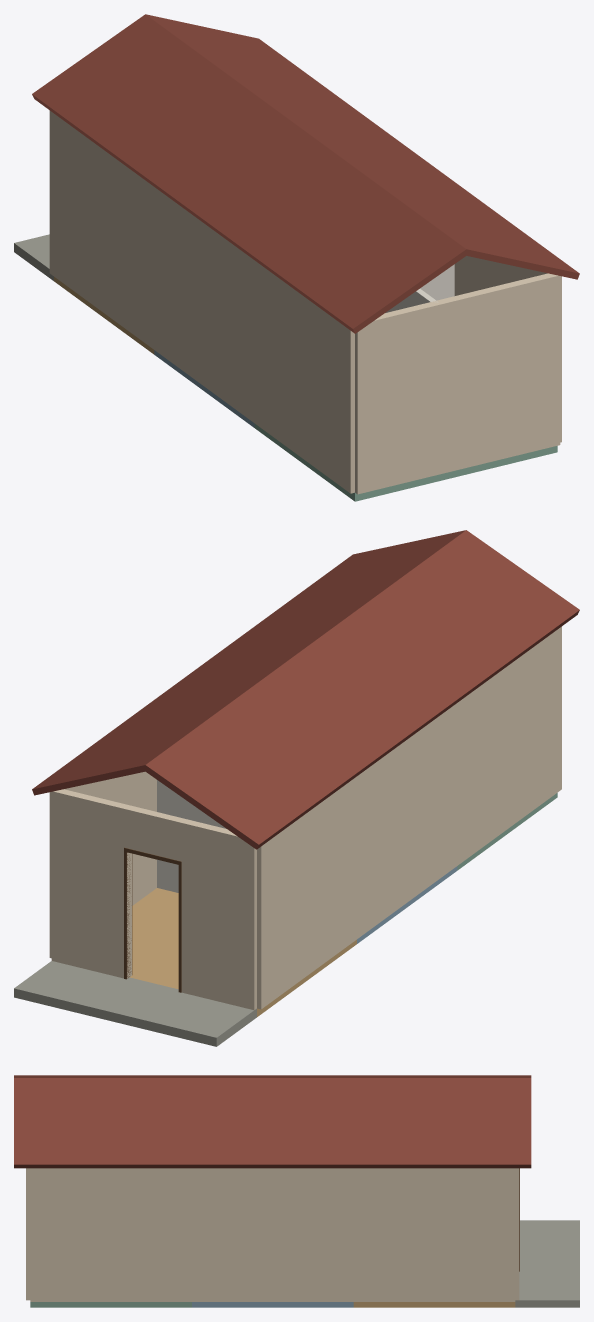
File: rumah-3-petak-v01.fbx
3 views of the same model, one above another, from view 1: azimuth 30°, elevation 25°; view 2: azimuth 150°, elevation 25°; view 3: azimuth 270°, elevation 25° (orthographic). The views are drawn at different scales.
Visible parts, largest first — view 1: Model::19_Roof_Right_Removable, Model::09_Exterior_Right, Model::07_Exterior_Rear, Model::18_Roof_Left_Removable, Model::08_Exterior_Left, Model::03_Floor_Kitchen, Model::05_Terrace, Model::11_Partition_Bedroom_Kitchen; view 2: Model::19_Roof_Right_Removable, Model::09_Exterior_Right, Model::06_Exterior_Front, Model::18_Roof_Left_Removable, Model::05_Terrace, Model::01_Floor_Living, Model::08_Exterior_Left, Model::10_Partition_Living_Bedroom, Model::14_Frame_FrontDoor; view 3: Model::08_Exterior_Left, Model::18_Roof_Left_Removable, Model::05_Terrace, Model::19_Roof_Right_Removable, Model::01_Floor_Living, Model::02_Floor_Bedroom, Model::03_Floor_Kitchen, Model::06_Exterior_Front, Model::07_Exterior_Rear.
Part boxes in pixels (<box>): Model::19_Roof_Right_Removable: <box>32,14,467,333</box>; Model::09_Exterior_Right: <box>49,110,354,493</box>; Model::07_Exterior_Rear: <box>355,273,560,494</box>; Model::18_Roof_Left_Removable: <box>146,14,579,279</box>; Model::08_Exterior_Left: <box>454,256,561,442</box>; Model::03_Floor_Kitchen: <box>254,424,557,501</box>; Model::05_Terrace: <box>14,234,53,280</box>; Model::11_Partition_Bedroom_Kitchen: <box>420,264,454,300</box>; Model::19_Roof_Right_Removable: <box>143,530,579,849</box>; Model::09_Exterior_Right: <box>257,626,561,1009</box>; Model::06_Exterior_Front: <box>51,789,256,1010</box>; Model::18_Roof_Left_Removable: <box>32,530,465,795</box>; Model::05_Terrace: <box>14,961,256,1046</box>; Model::01_Floor_Living: <box>129,888,356,1016</box>; Model::08_Exterior_Left: <box>49,771,156,958</box>; Model::10_Partition_Living_Bedroom: <box>157,780,226,892</box>; Model::14_Frame_FrontDoor: <box>124,847,181,992</box>; Model::08_Exterior_Left: <box>30,1168,515,1301</box>; Model::18_Roof_Left_Removable: <box>14,1078,531,1168</box>; Model::05_Terrace: <box>515,1220,579,1307</box>; Model::19_Roof_Right_Removable: <box>14,1075,531,1077</box>; Model::01_Floor_Living: <box>353,1302,515,1307</box>; Model::02_Floor_Bedroom: <box>192,1302,353,1307</box>; Model::03_Floor_Kitchen: <box>30,1302,191,1307</box>; Model::06_Exterior_Front: <box>515,1168,519,1300</box>; Model::07_Exterior_Rear: <box>26,1168,30,1300</box>.
Size of the model in its own units: 3.92 by 3.88 by 10.5.
